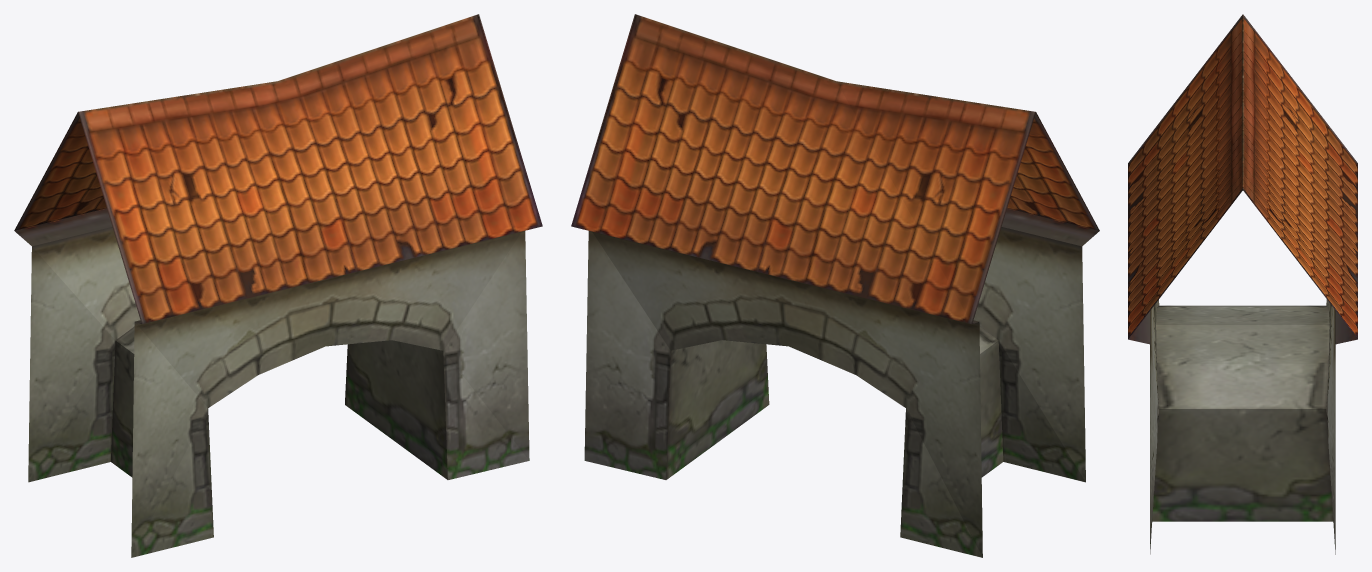
The model's file is warriorvillage_passage.FBX.
The picture shows the model from 3 angles, left to right: view 1: azimuth 30°, elevation 25°; view 2: azimuth 150°, elevation 25°; view 3: azimuth 270°, elevation 25°; orthographic projection. The views are drawn at different scales.
Visible parts, largest first — view 1: warriorvillage_passage; view 2: warriorvillage_passage; view 3: warriorvillage_passage.
Boxes of the visible parts, bbox=[...] form: warriorvillage_passage: bbox=[14, 14, 542, 557]; warriorvillage_passage: bbox=[571, 14, 1099, 557]; warriorvillage_passage: bbox=[1128, 14, 1357, 554].
Size of the model in its own units: 685 by 667 by 377.
